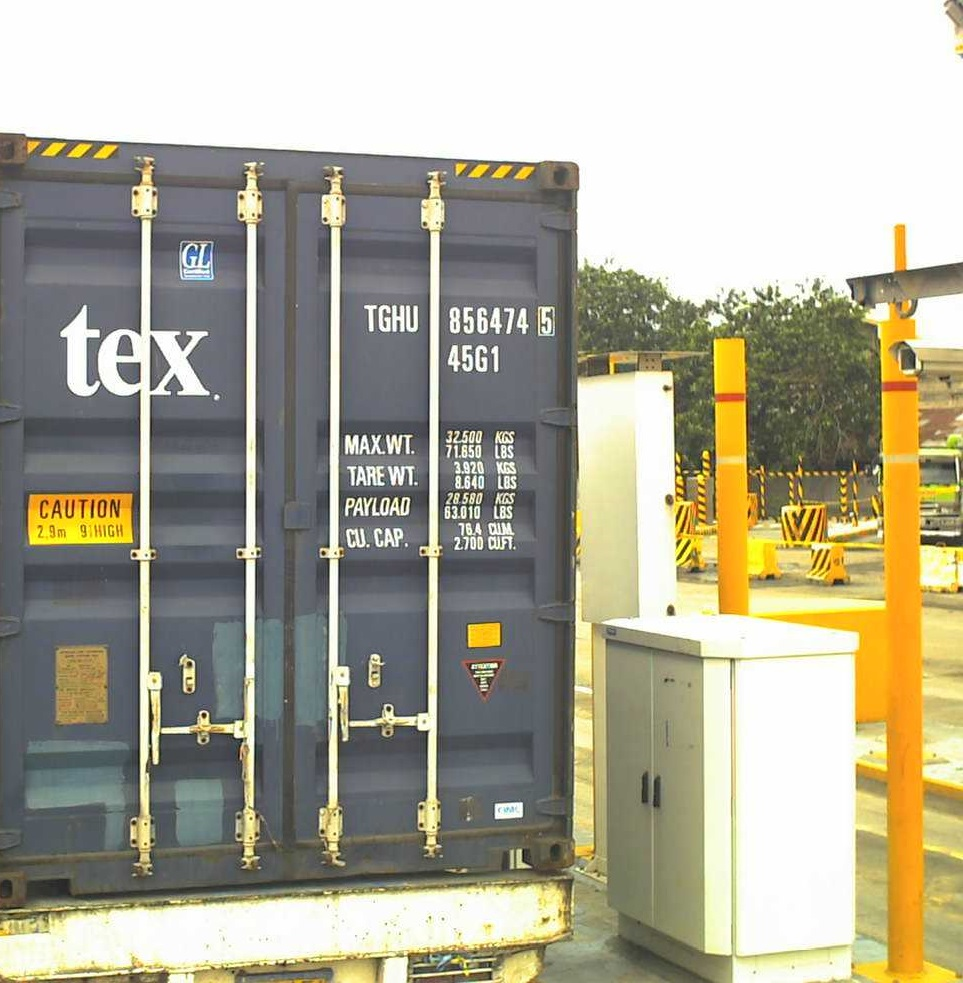container_door: (1, 129, 576, 880)
